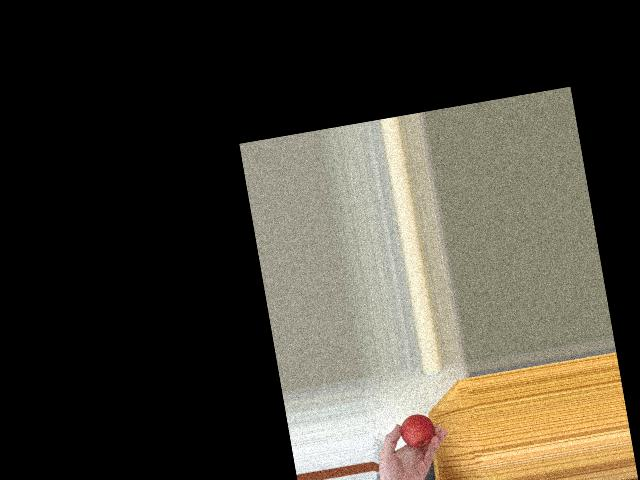apple: (392, 411, 437, 452)
